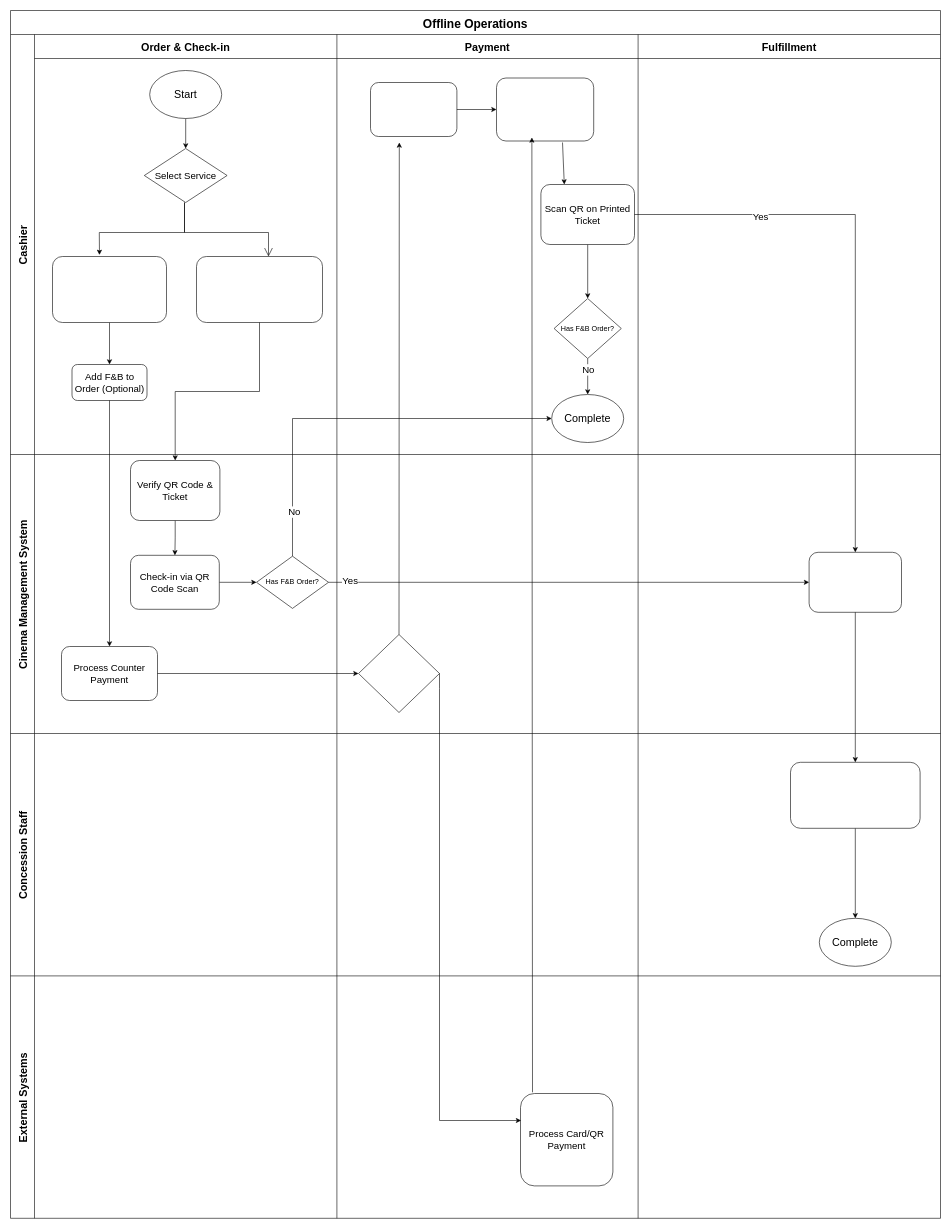
The diagram is 951 pixels wide and 1229 high, and some of its shapes have lost their labels. Each missing label, with the box of its shape:
Fulfill & Hand over F&B: (790, 762, 920, 828)
Payment Method?: (358, 634, 440, 712)
Print Ticket & Receipt: (496, 77, 594, 141)
Receive Cash: (370, 82, 457, 136)
Scan QR Code for Check-in: (196, 256, 322, 322)
Sell Tickets at Box Office: (52, 256, 166, 322)
Send F&B Notification to Concession Counter: (808, 552, 902, 612)
